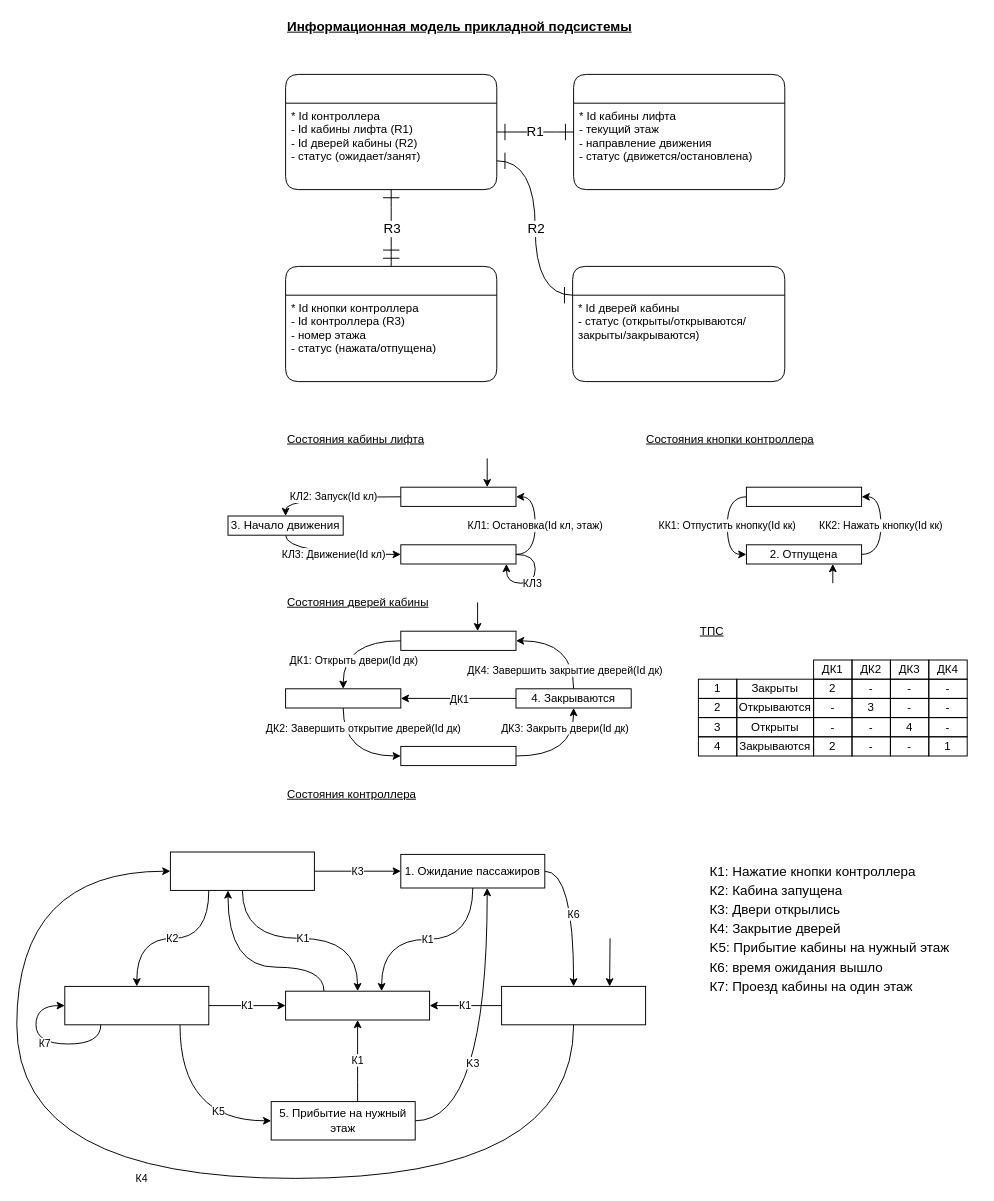
Image size: 994x1201. Some labels were removed from this diagram. Each missing label, with the box of its shape:
1. Закрыты: (400, 630, 516, 650)
1. Контроллер (К): (285, 73, 497, 190)
1. Нажата: (745, 486, 862, 506)
1. Остановлена: (400, 486, 516, 506)
2. Движется: (400, 544, 516, 564)
2. Кабина лифта (КЛ): (573, 73, 785, 190)
2. Определение следующего этажа: (285, 990, 430, 1020)
2. Открываются: (285, 688, 401, 708)
3. Двери кабины (ДК): (572, 265, 785, 382)
3. Закрытие дверей: (501, 985, 646, 1025)
3. Открыты: (400, 745, 516, 766)
4. Кнопка контроллера (КК): (285, 265, 497, 382)
4. Ожидание пребытия на следующий этаж: (64, 985, 209, 1025)
6. Начало движения. Открытие дверей: (169, 851, 314, 890)
